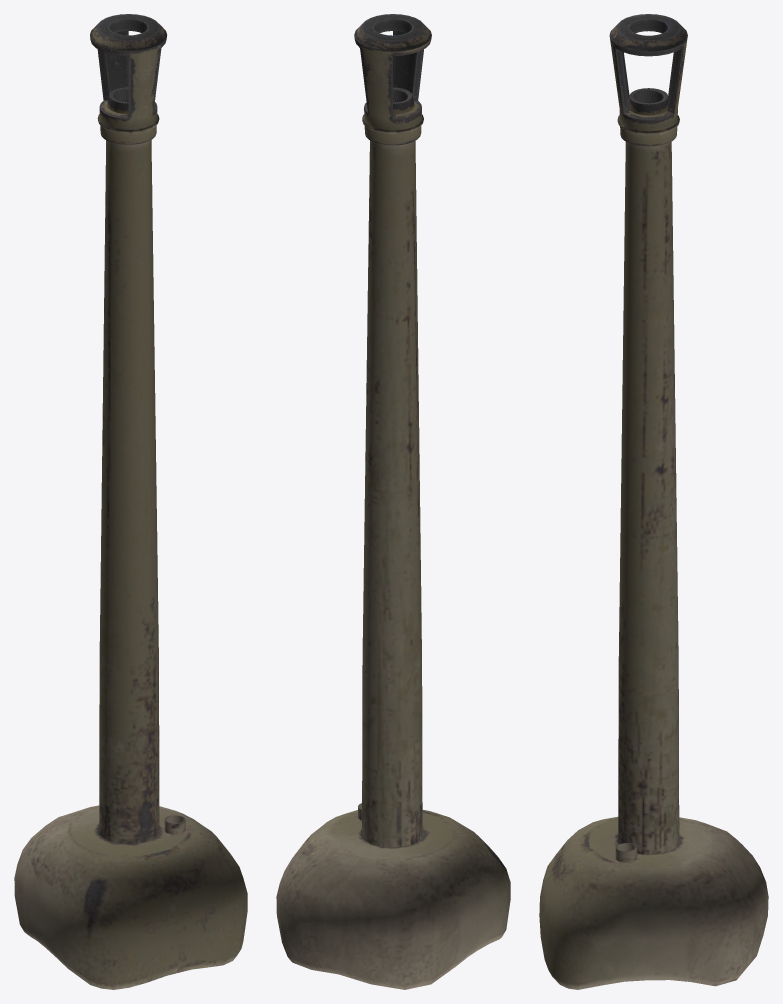
File: Gun_03.glb
3 views of the same model, side by side, from view 1: azimuth 30°, elevation 25°; view 2: azimuth 150°, elevation 25°; view 3: azimuth 270°, elevation 25° (orthographic).
Parts seen in each view (by area): view 1: set_0_group_0; view 2: set_0_group_0; view 3: set_0_group_0.
Part boxes in pixels (box(x1,y1,x2,y2)): set_0_group_0: box(14, 14, 247, 989); set_0_group_0: box(276, 14, 510, 989); set_0_group_0: box(539, 14, 768, 989).
Bounding box in the file's own units: 1.1 × 5.33 × 1.19.
1 material, 1 textured.
